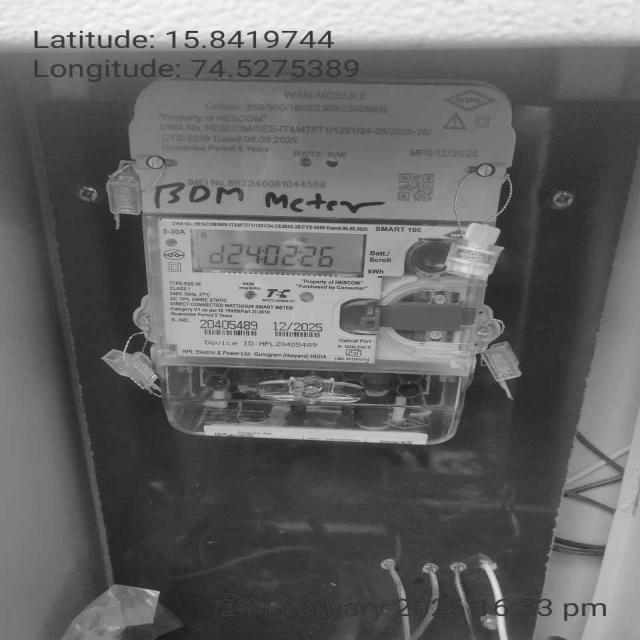meter: (138, 78, 517, 365)
